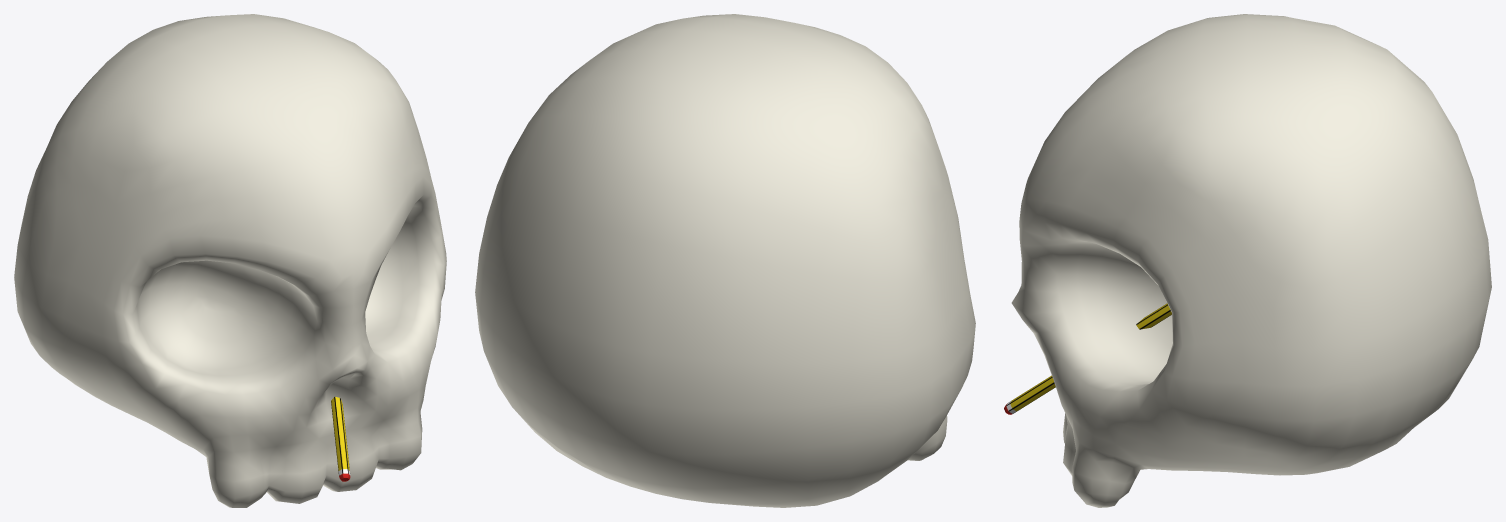
The model's file is mortadelo.fbx.
The picture shows the model from 3 angles, left to right: view 1: azimuth 30°, elevation 25°; view 2: azimuth 150°, elevation 25°; view 3: azimuth 270°, elevation 25°; orthographic projection. The views are drawn at different scales.
Parts seen in each view (by area): view 1: mortadelo; view 2: mortadelo; view 3: mortadelo.
Boxes of the visible parts, bbox=[...] form: mortadelo: bbox=[14, 14, 446, 507]; mortadelo: bbox=[475, 14, 975, 507]; mortadelo: bbox=[1004, 14, 1491, 507].
Bounding box in the file's own units: 668 × 655 × 679.
1 material, 1 textured.
